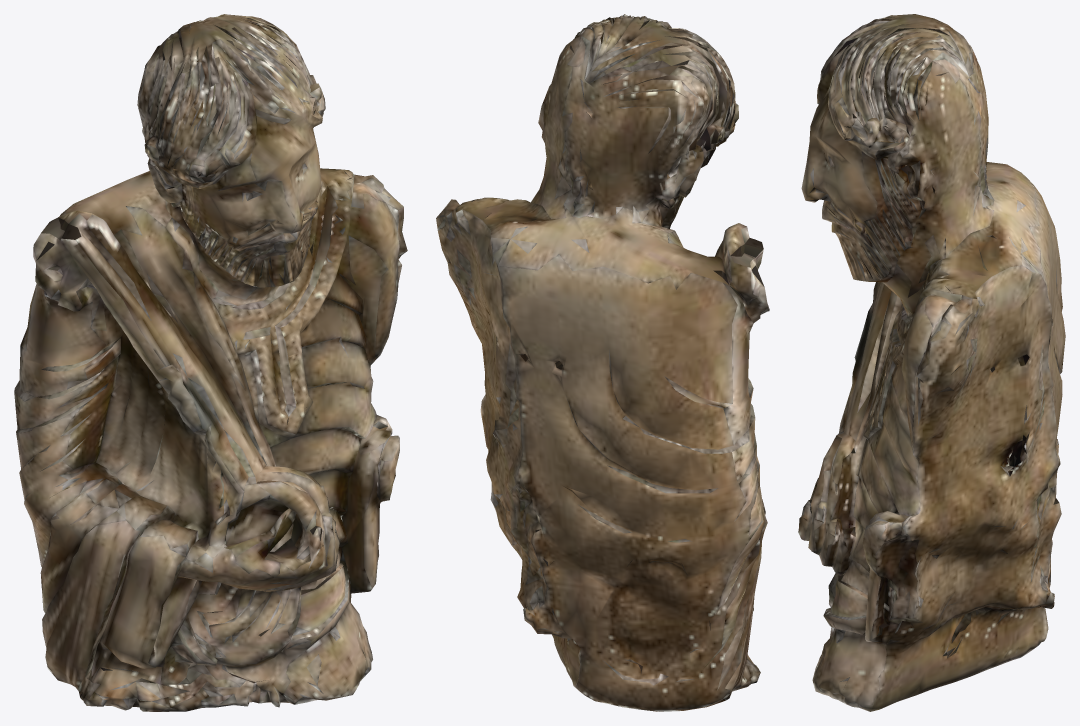
3 views of the same model, side by side, from view 1: azimuth 30°, elevation 25°; view 2: azimuth 150°, elevation 25°; view 3: azimuth 270°, elevation 25° (orthographic). The views are drawn at different scales.
Parts seen in each view (by area): view 1: Mesh; view 2: Mesh; view 3: Mesh.
Part boxes in pixels (x1,y1,x2,y2): Mesh: (14,14,407,711); Mesh: (436,14,769,711); Mesh: (798,14,1065,711).
Bounding box in the file's own units: 0.4327 × 0.761 × 0.2924.
1 material, 1 textured.
